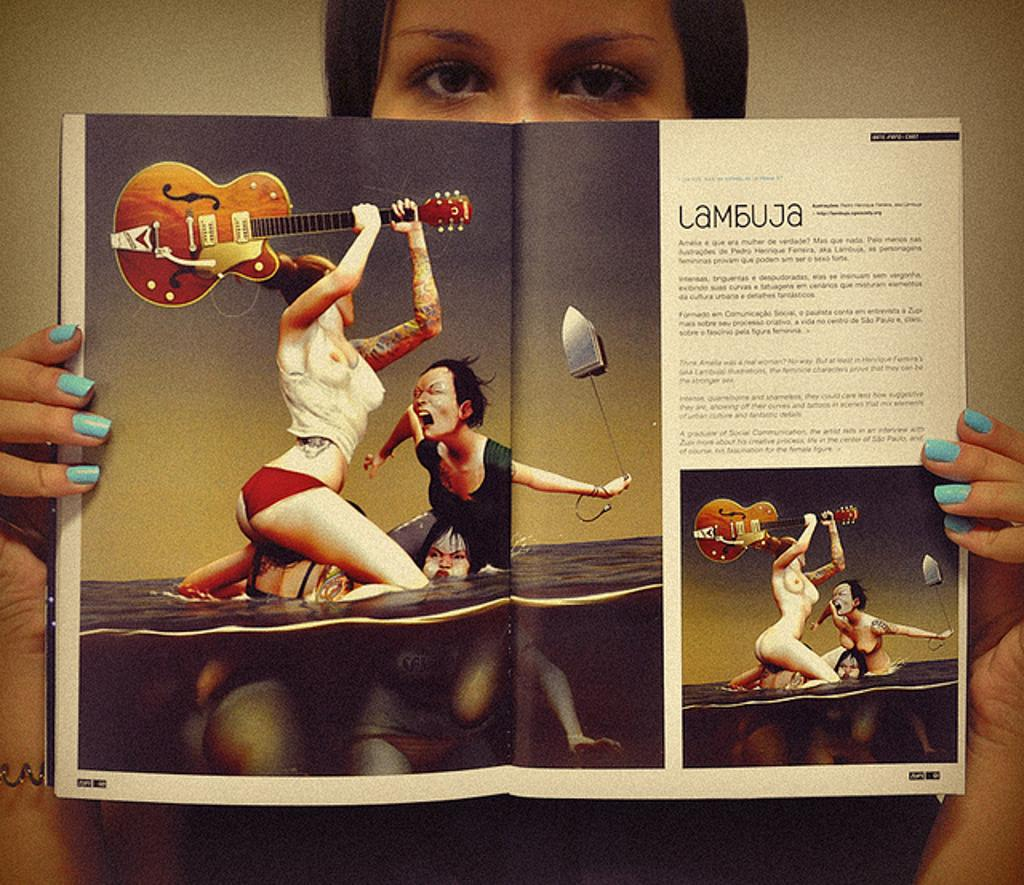face: (372, 1, 684, 334), (412, 372, 458, 438), (423, 531, 467, 585), (327, 266, 352, 325), (832, 583, 853, 615), (838, 656, 859, 683), (787, 539, 804, 566)
